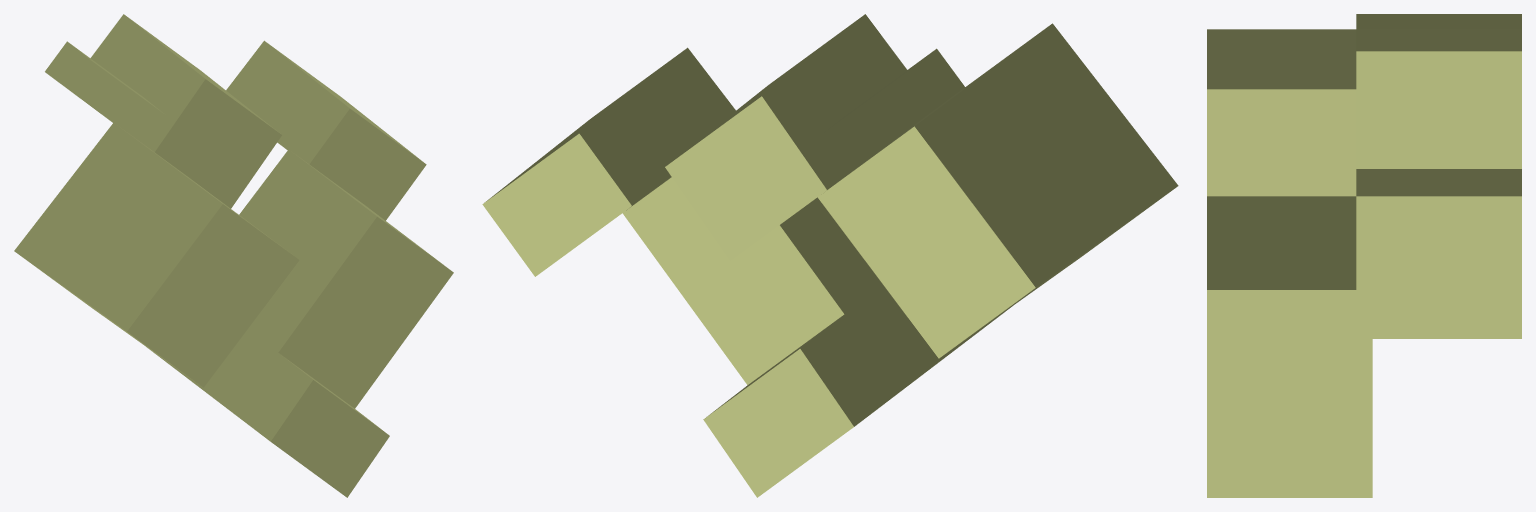
The picture shows the model from 3 angles, left to right: view 1: azimuth 30°, elevation 25°; view 2: azimuth 150°, elevation 25°; view 3: azimuth 270°, elevation 25°; orthographic projection. The views are drawn at different scales.
Visible parts, largest first — view 1: 0_0_1_2_0_0_3_1_1; view 2: 0_0_1_2_0_0_3_1_1; view 3: 0_0_1_2_0_0_3_1_1.
Boxes of the visible parts, bbox=[...] form: 0_0_1_2_0_0_3_1_1: bbox=[14, 14, 453, 497]; 0_0_1_2_0_0_3_1_1: bbox=[482, 14, 1178, 497]; 0_0_1_2_0_0_3_1_1: bbox=[1207, 14, 1521, 497].
Bounding box in the file's own units: 27.43 × 25.65 × 17.1.
